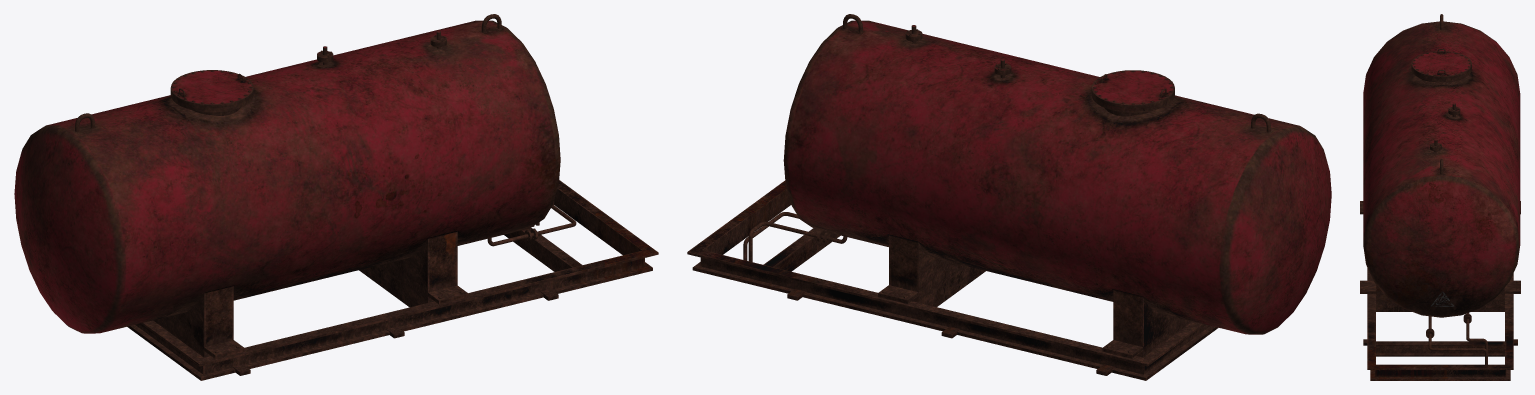
Rendered from tank0.obj.
3 renders of one model, left to right at view 1: azimuth 30°, elevation 25°; view 2: azimuth 150°, elevation 25°; view 3: azimuth 270°, elevation 25°, orthographic. The views are drawn at different scales.
Parts seen in each view (by area): view 1: Object002_Untitled; view 2: Object002_Untitled; view 3: Object002_Untitled.
Part boxes in pixels (<box>): Object002_Untitled: <box>14,14,658,380</box>; Object002_Untitled: <box>687,14,1331,380</box>; Object002_Untitled: <box>1360,14,1520,380</box>.
Size of the model in its own units: 10.31 by 4.41 by 3.49.
1 material, 1 textured.
